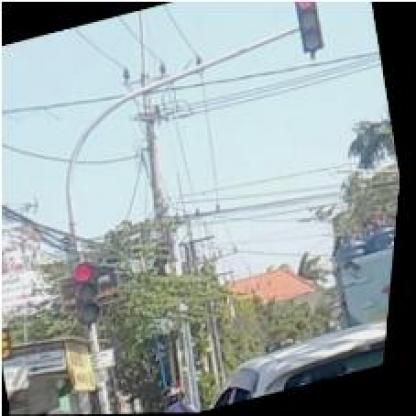red: (70, 261, 110, 325), (286, 1, 330, 54)
